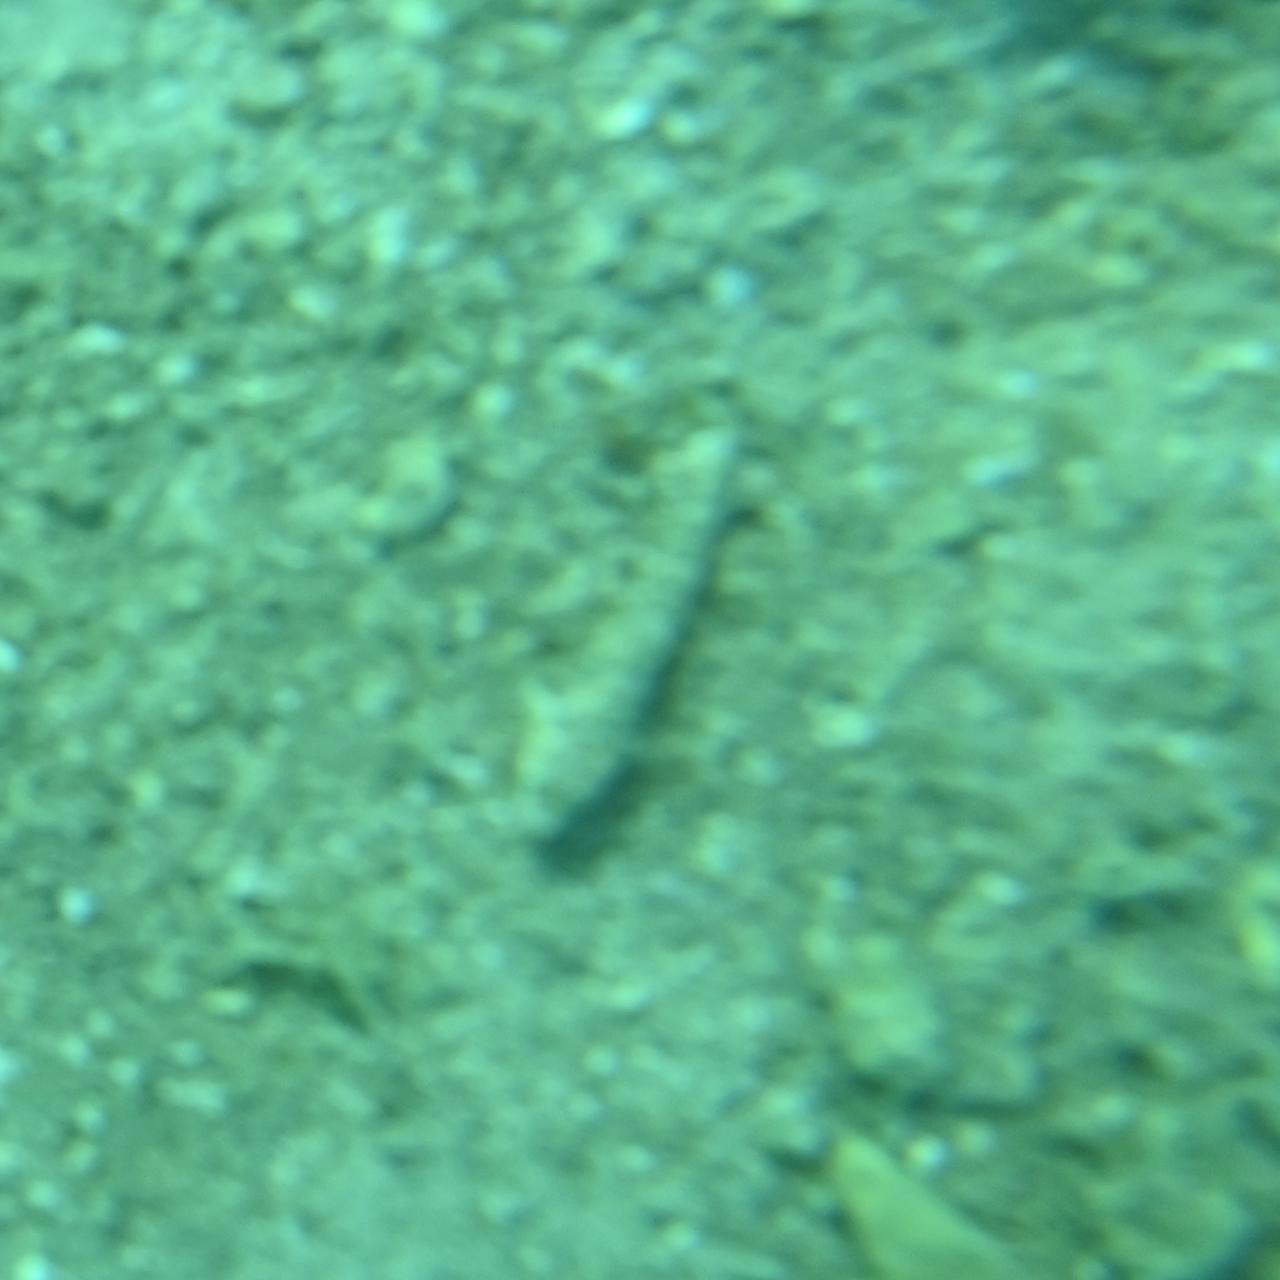Gobius sp: (498, 416, 782, 864)
